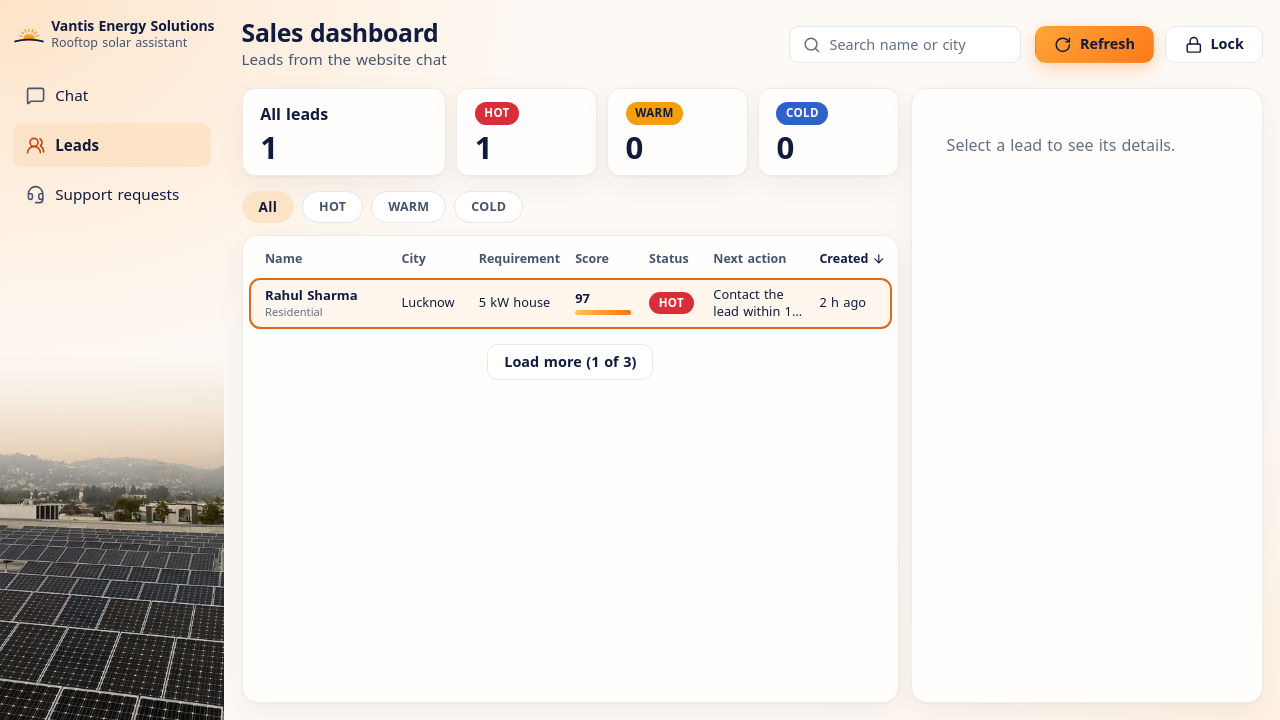
Test: leads › the chips, search and sort headers ask the server, from the first page; Load more asks for the next
The image size is (1280, 720).
Click the button "HOT" at (333, 207), box x1=302 y1=191 x2=363 y2=222
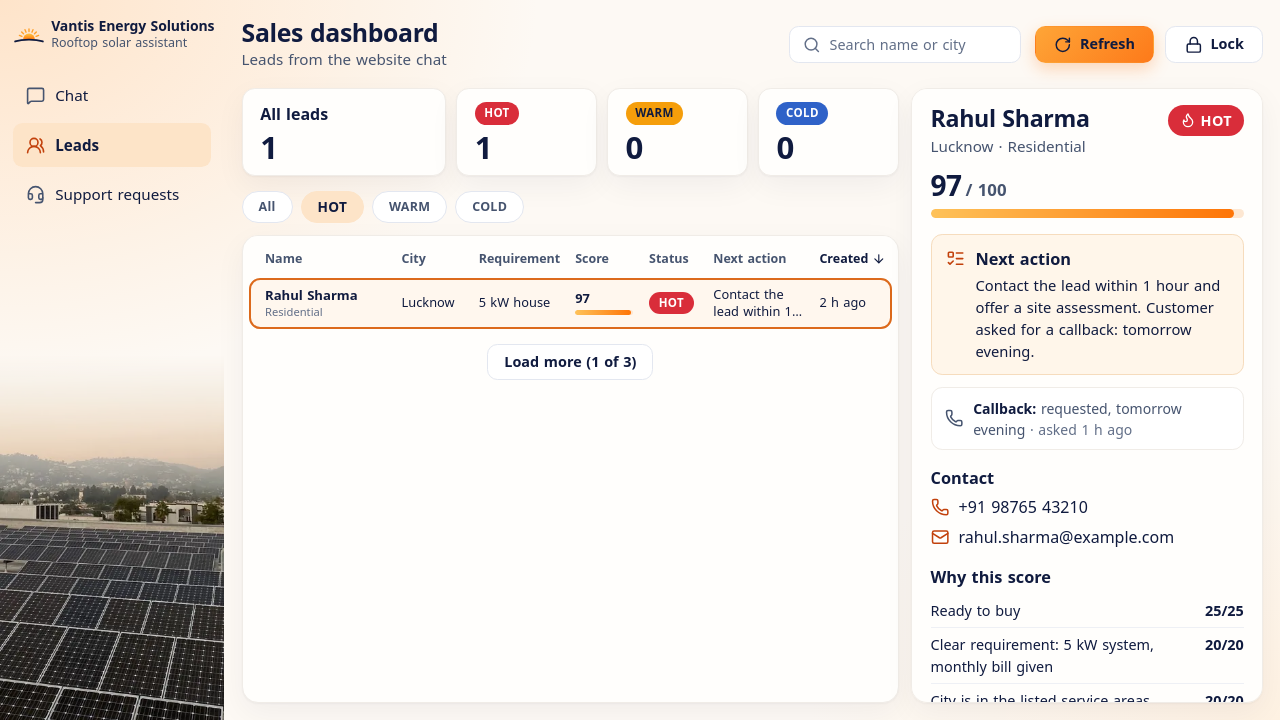
Expected: the button "HOT" is pressed, x1=301 y1=191 x2=364 y2=222
Type "  pune " into the search field named "Search leads by name or city" at (918, 45), box x1=830 y1=29 x2=1006 y2=60
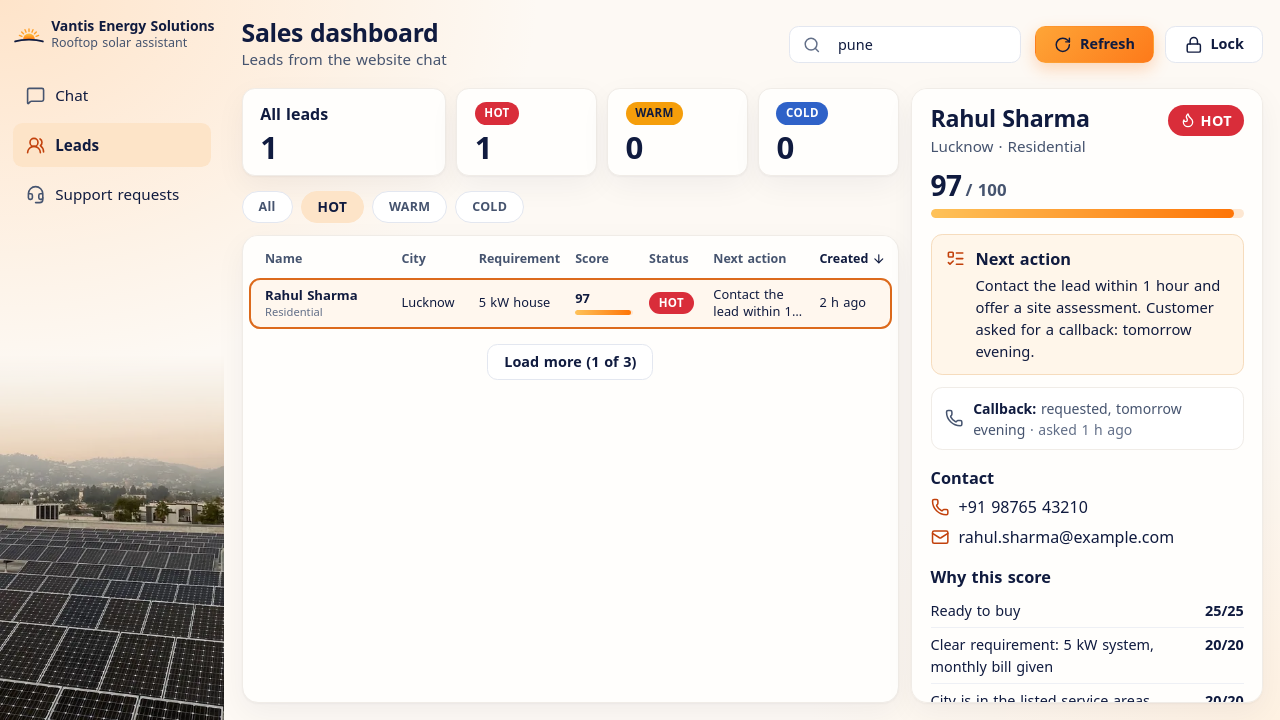
Click the button "Score" at (592, 259), box x1=575 y1=250 x2=609 y2=267
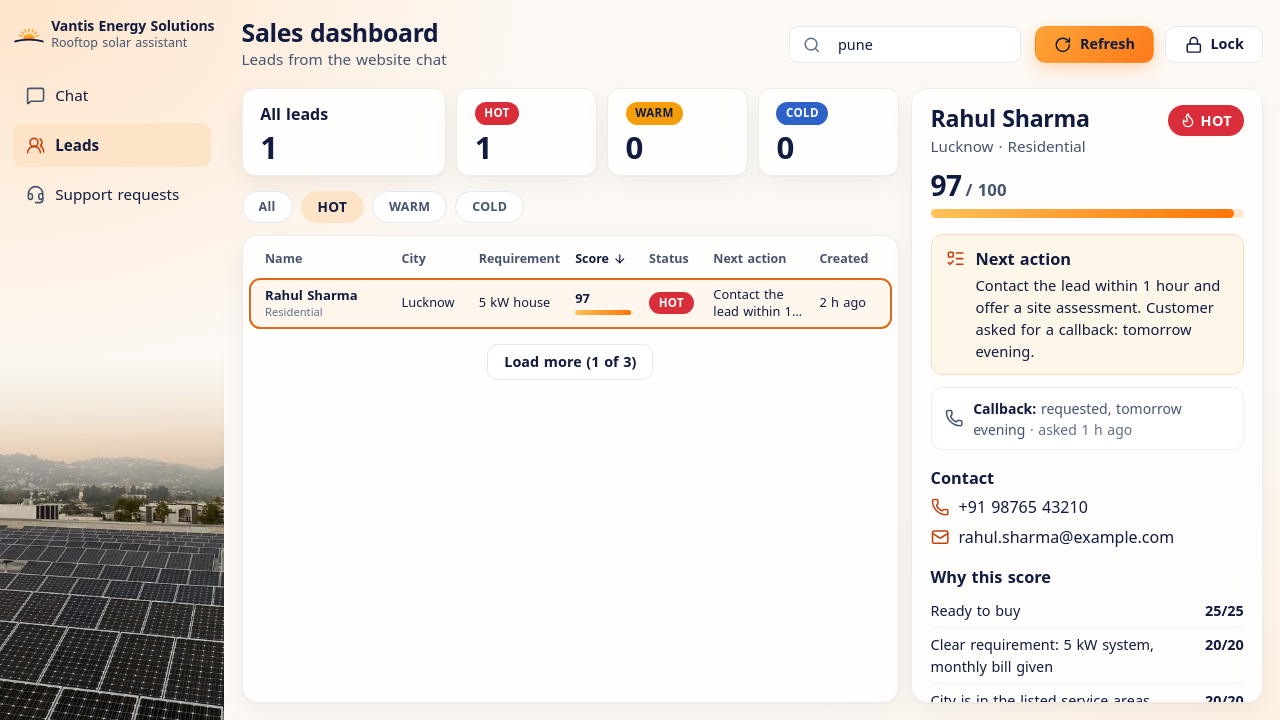
Expected: the column heading "Score" has attribute aria-sort="descending", x1=567 y1=236 x2=641 y2=278
Click the button "Load more (1 of 3)" at (570, 362), box x1=487 y1=344 x2=653 y2=380
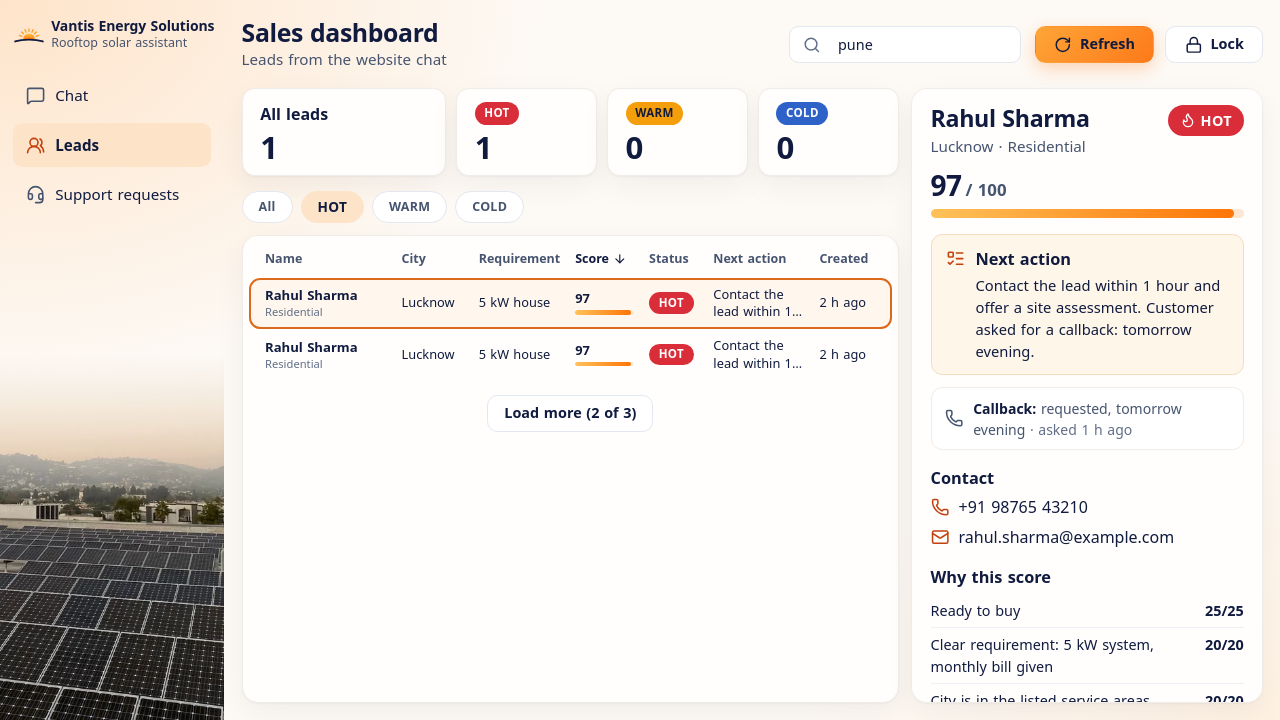
Expected: the button "Load more (2 of 3)" is shown, x1=487 y1=395 x2=653 y2=432
